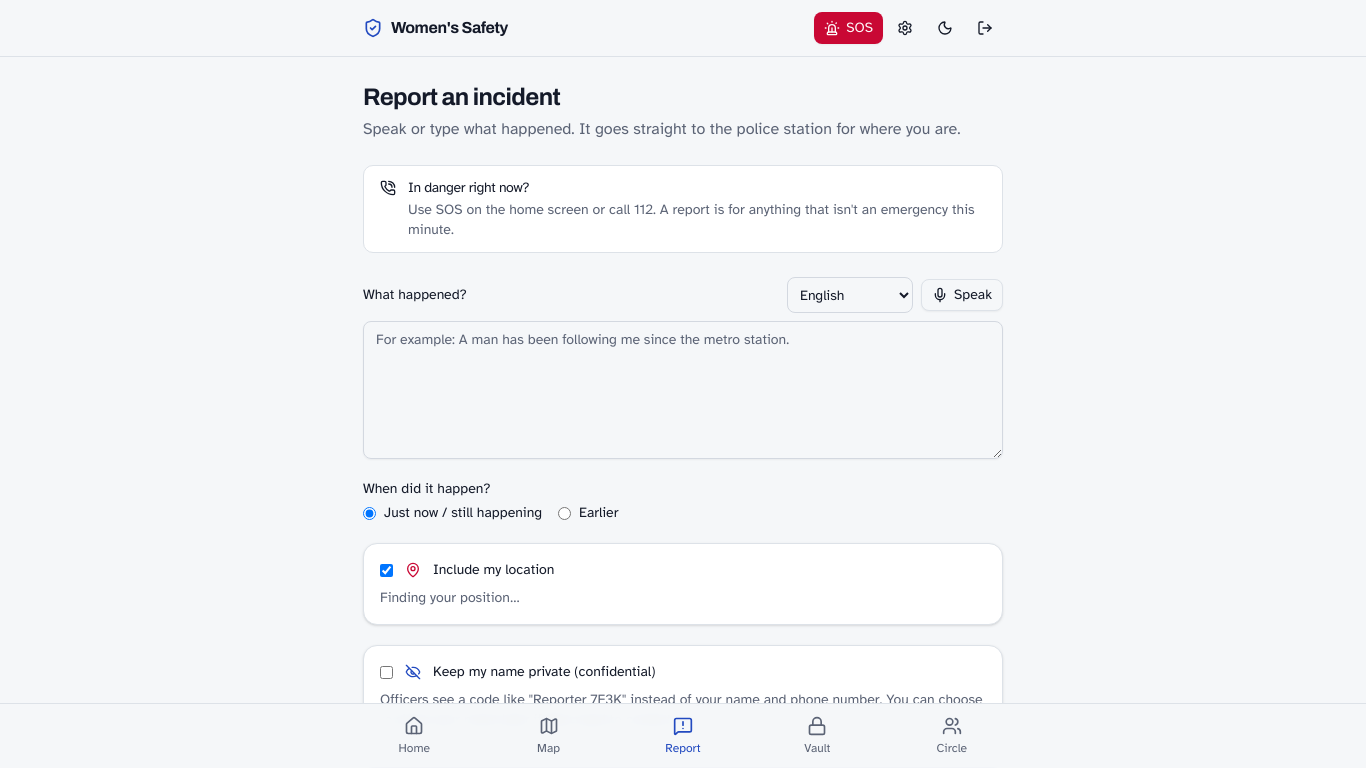
Test: report screen › previews the rules answer and files the report
The image size is (1366, 768).
Type "ek aadmi metro se mera peecha kar raha hai" into the text box labelled "What happened?" at x=683, y=390, box [363,321,1003,459]
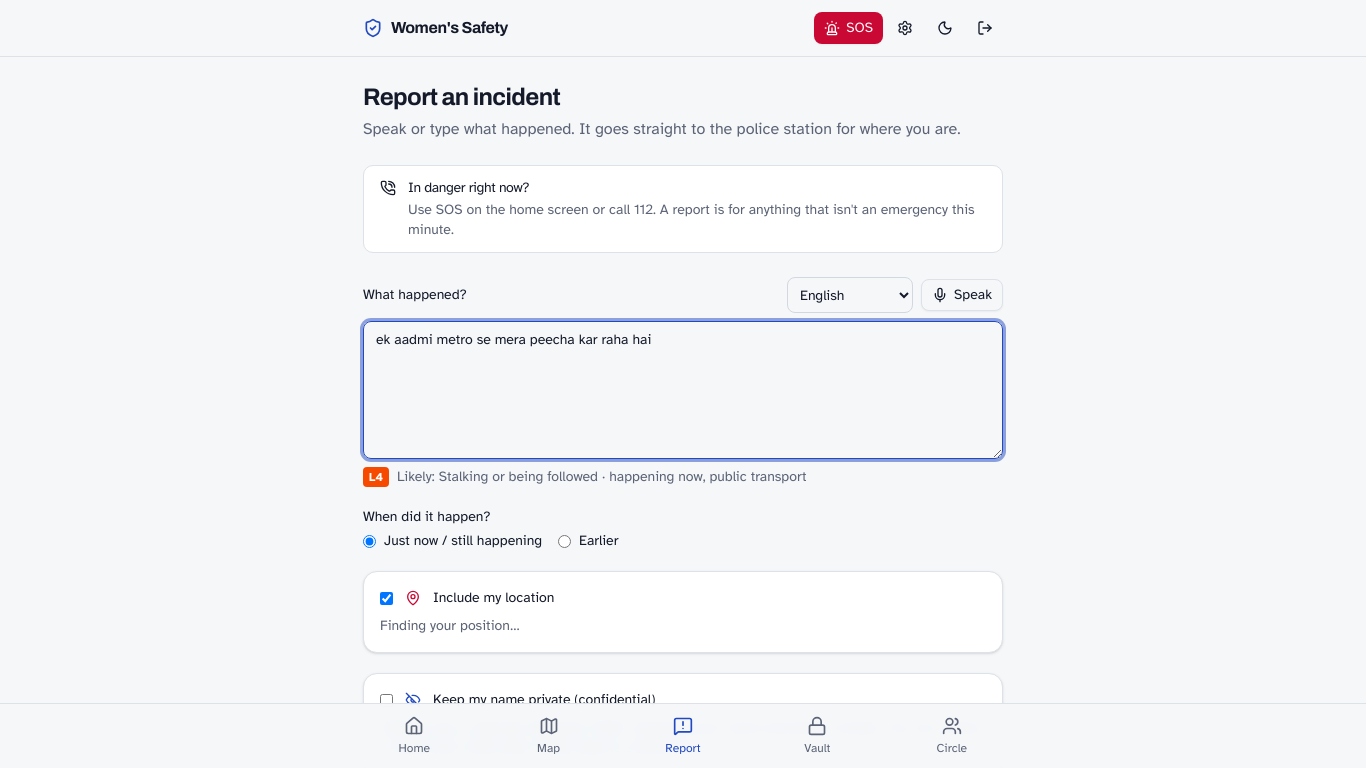
Check: the text "Likely: Stalking or being followed · happening now, public transport" is shown, box [363,467,806,487]
Click the checkbox labelled "Keep my name private (confidential)" at x=386, y=700, box [380,694,393,706]
(page scrolled)
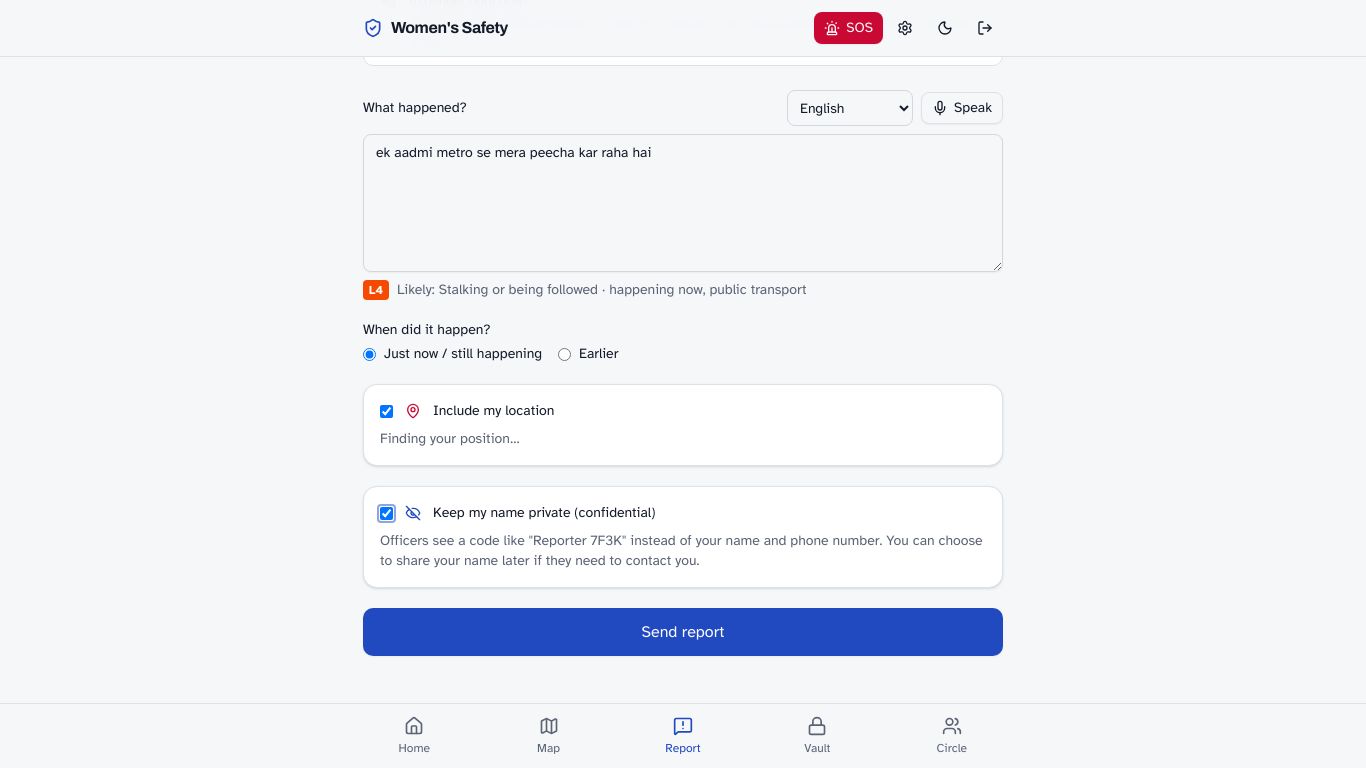
Click the button "Send report" at x=683, y=632, box [363,608,1003,656]
(page scrolled)
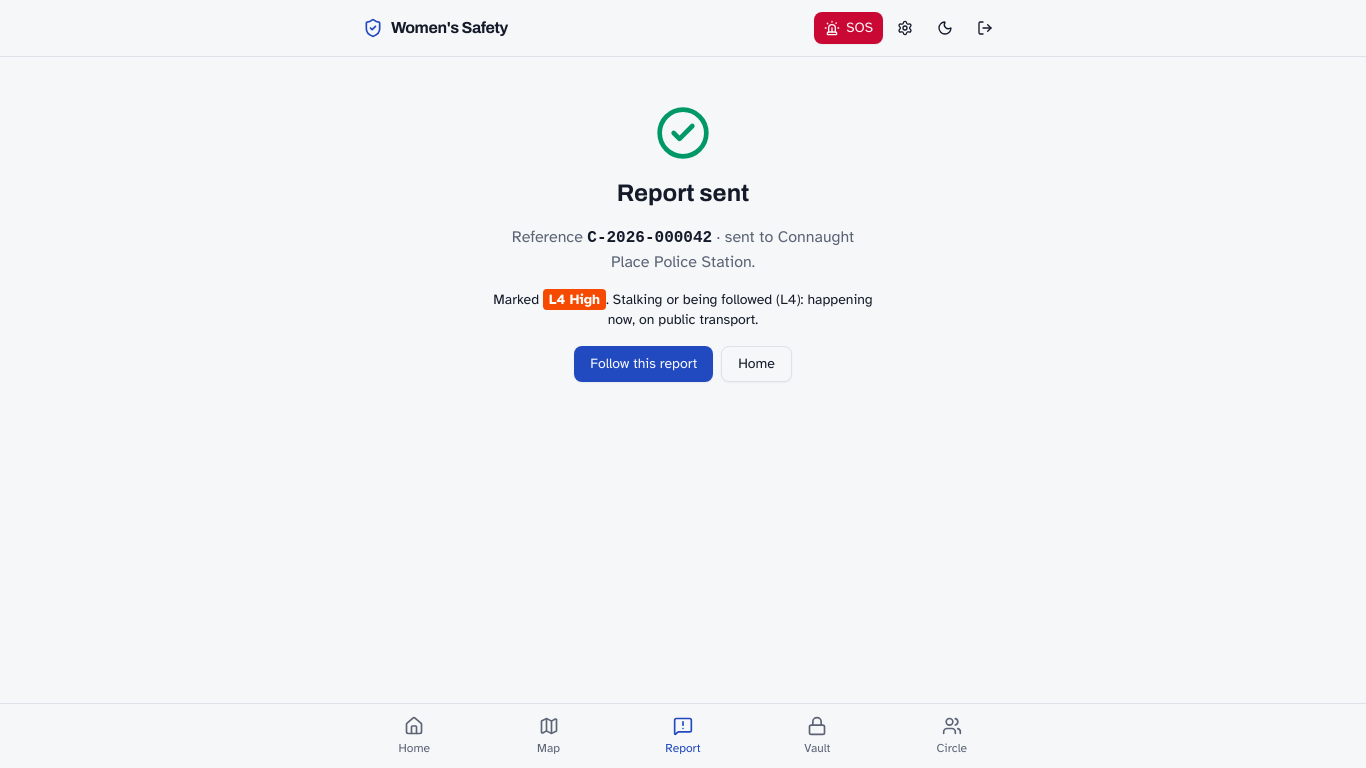
Check: the heading "Report sent" is shown, box [617,177,749,209]
Check: the text "C-2026-000042" is shown, box [587,229,712,247]
Check: the text "L4 High" is shown, box [543,289,606,310]
